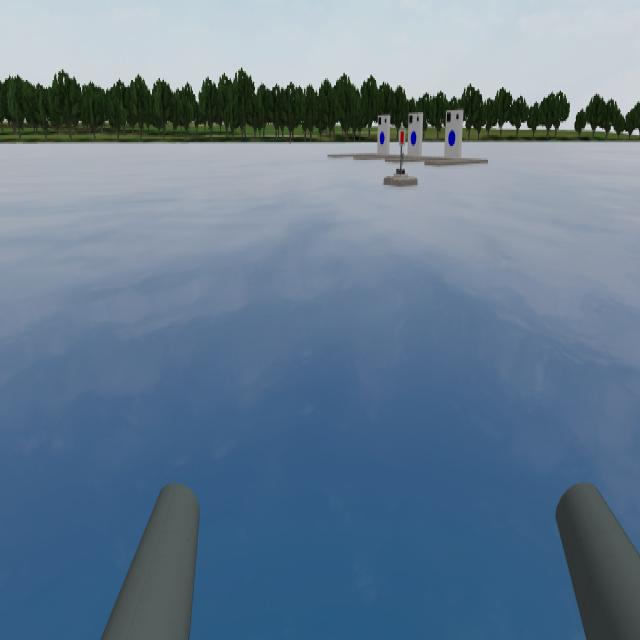red_pole: (392, 122, 411, 150)
